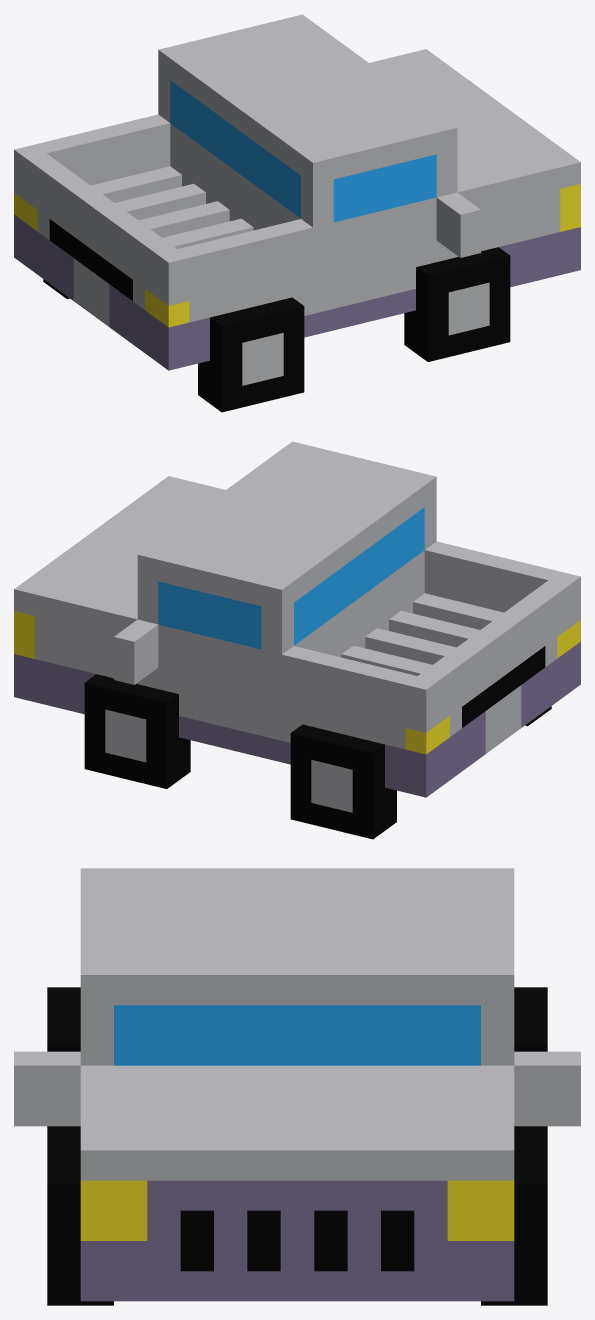
Rendered from pickup_d.obj.
3 views of the same model, one above another, from view 1: azimuth 30°, elevation 25°; view 2: azimuth 150°, elevation 25°; view 3: azimuth 270°, elevation 25° (orthographic). The views are drawn at different scales.
Bounding box in the file's own units: 2 × 1 × 1.7.
1 material, 1 textured.
